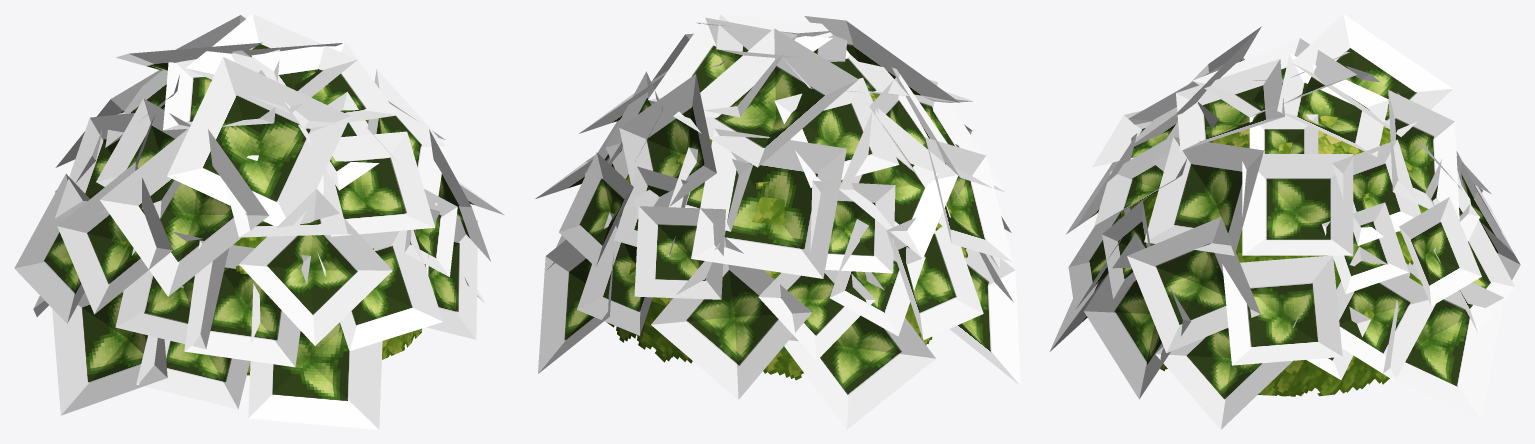
The model's file is Bush.fbx.
The picture shows the model from 3 angles, left to right: view 1: azimuth 30°, elevation 25°; view 2: azimuth 150°, elevation 25°; view 3: azimuth 270°, elevation 25°; orthographic projection. The views are drawn at different scales.
Parts seen in each view (by area): view 1: Plane.059, Sphere.004; view 2: Plane.059, Sphere.004; view 3: Plane.059, Sphere.004.
Part boxes in pixels (bbox=[...]): Plane.059: bbox=[14, 14, 504, 429]; Sphere.004: bbox=[116, 107, 426, 375]; Plane.059: bbox=[535, 14, 1020, 429]; Sphere.004: bbox=[606, 93, 967, 380]; Plane.059: bbox=[1049, 14, 1520, 429]; Sphere.004: bbox=[1121, 115, 1430, 396].
Size of the model in its own units: 229 by 160 by 219.
